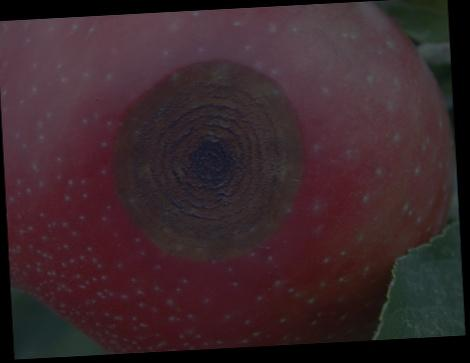rotten apple: (10, 11, 451, 344)
